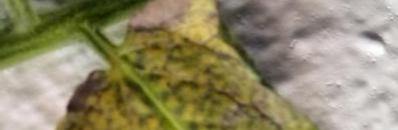Tomato leaf bacterial spot: (57, 3, 349, 130)
